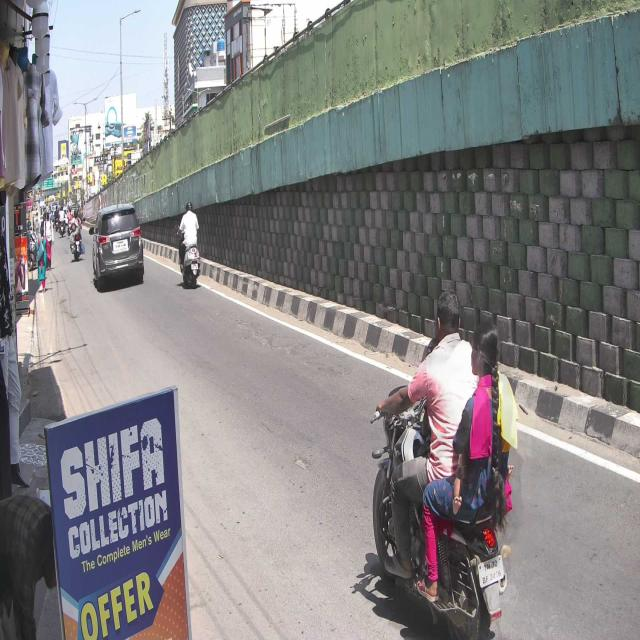double_rider: (370, 287, 520, 640)
